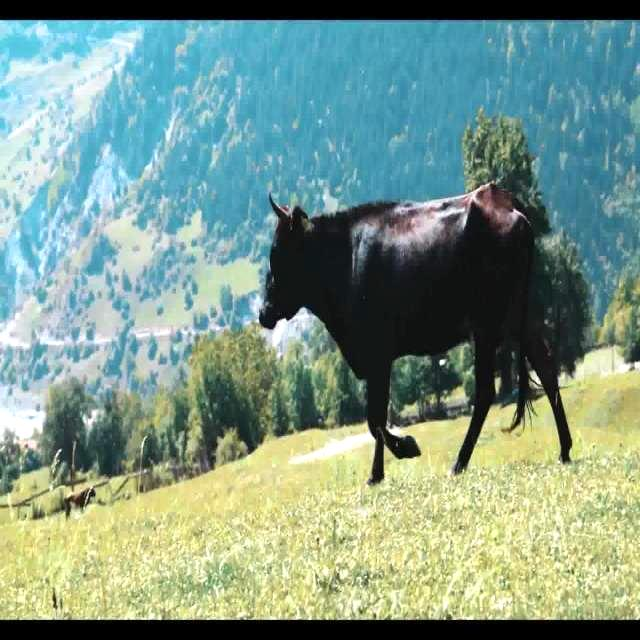COW: (259, 184, 572, 483)
